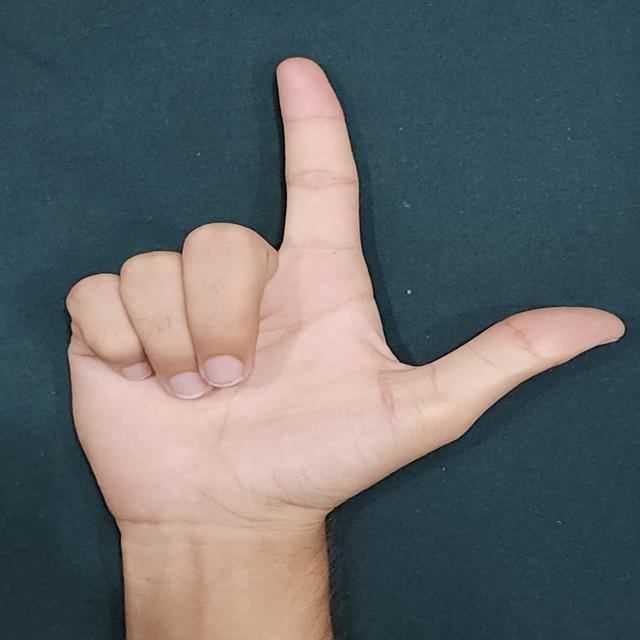خ: (52, 46, 640, 509)
